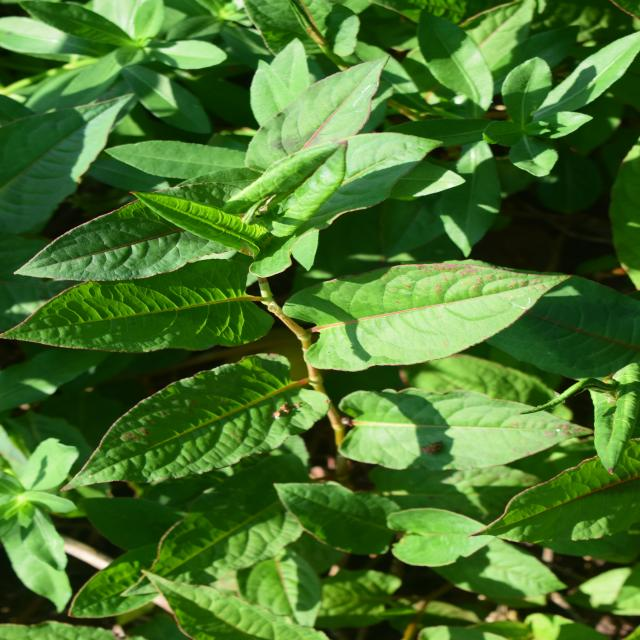Chinese_knotweed: (232, 3, 493, 552)
